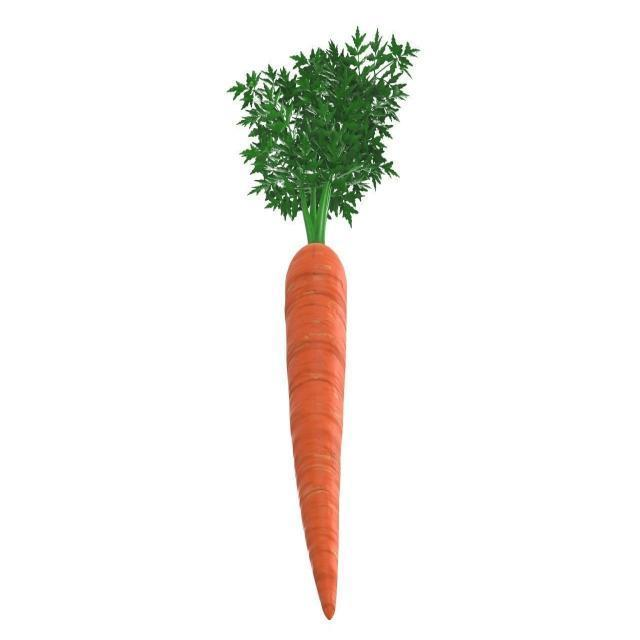carrot: (282, 240, 351, 620)
